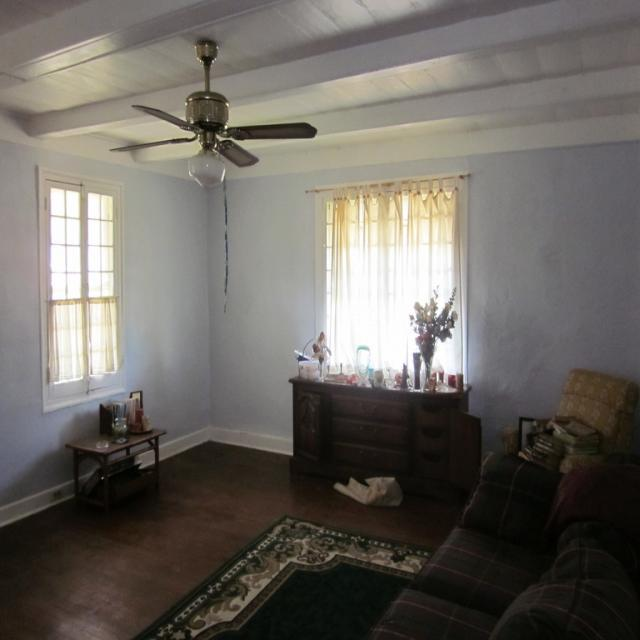fan_off: (111, 46, 319, 165)
